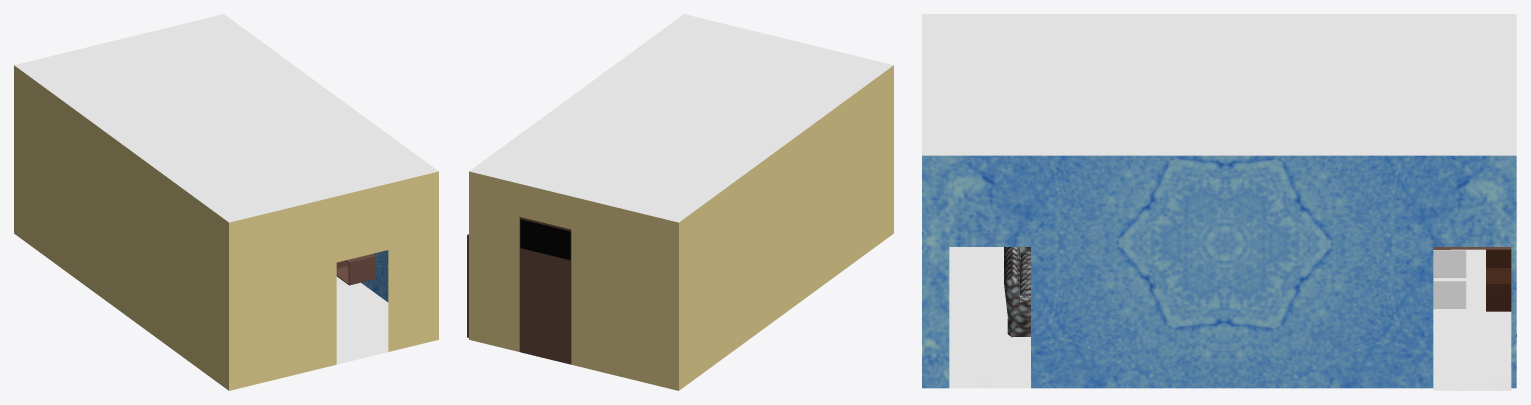
Rendered from hall.fbx.
3 views of the same model, side by side, from view 1: azimuth 30°, elevation 25°; view 2: azimuth 150°, elevation 25°; view 3: azimuth 270°, elevation 25° (orthographic). The views are drawn at different scales.
Parts seen in each view (by area): view 1: hall, tv_cabinet; view 2: hall; view 3: hall, sofa.001, shoe_rack, rug.01, rug.
Part boxes in pixels (x1=…): hall: x1=14, y1=14, x2=438, y2=390; tv_cabinet: x1=336, y1=254, x2=375, y2=285; hall: x1=467, y1=14, x2=893, y2=390; hall: x1=922, y1=14, x2=1516, y2=390; sofa.001: x1=1004, y1=247, x2=1030, y2=337; shoe_rack: x1=1486, y1=249, x2=1511, y2=311; rug.01: x1=1433, y1=250, x2=1466, y2=277; rug: x1=1433, y1=281, x2=1466, y2=308.
Size of the model in its own units: 1525 by 1148 by 2658.
